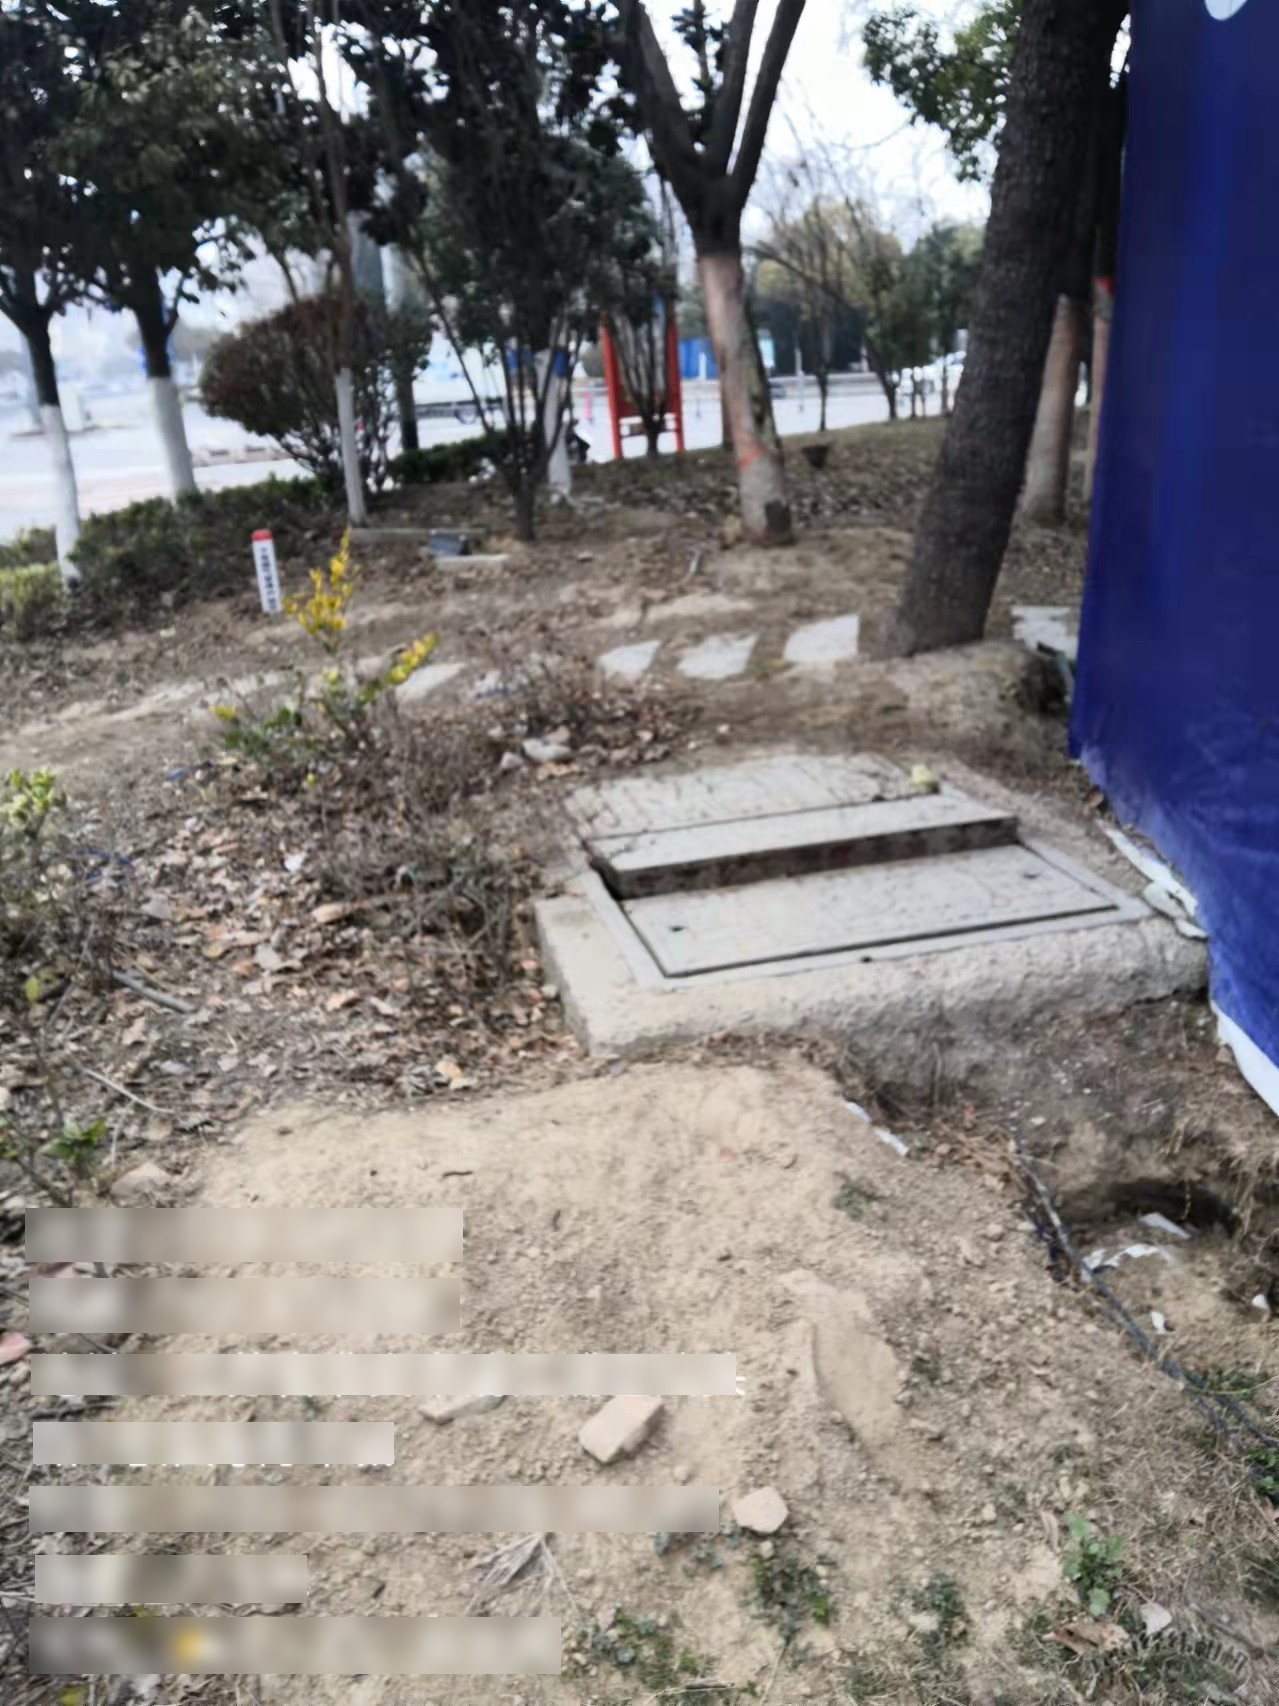uncovered: (554, 750, 1159, 998)
